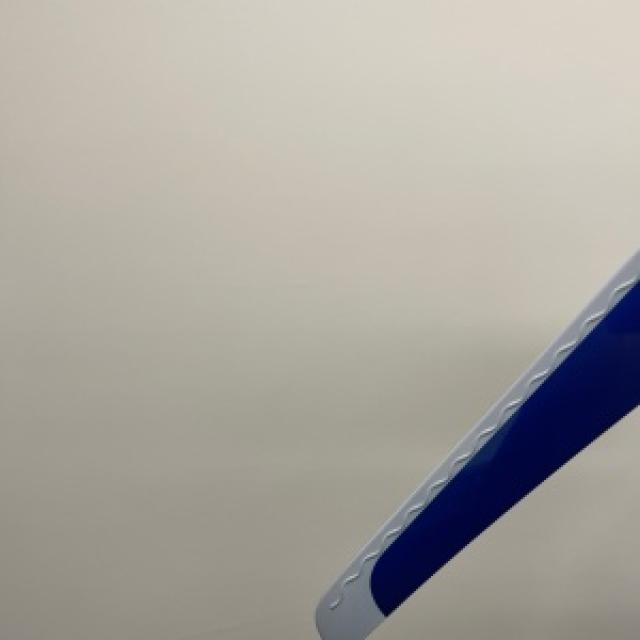healthy: (314, 247, 638, 638), (422, 414, 638, 638)
